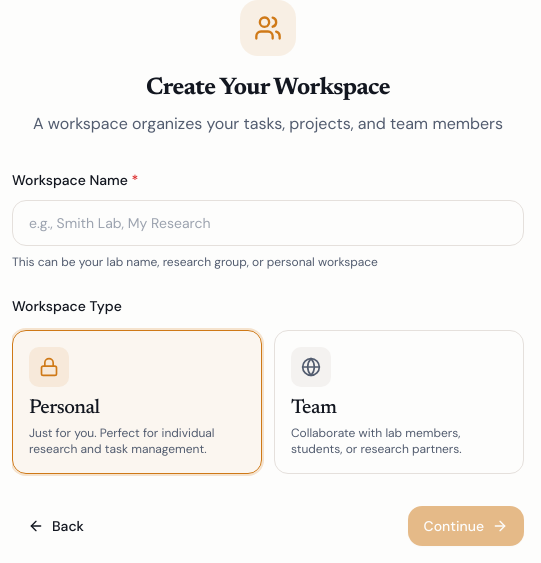
Scenario: StepWorkspace › Continue button is enabled when name is entered
The image size is (541, 563).
Type "My Lab" into the field with placeholder "e.g., Smith Lab, My Research". click: (268, 223)
box: [12,200,524,246]
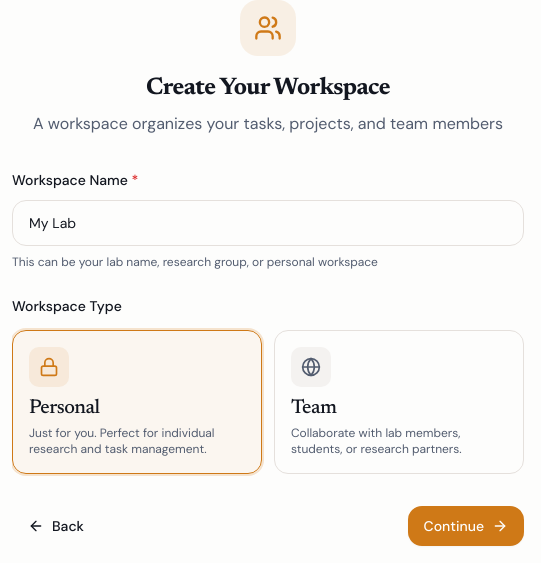
Expected: the button "Continue" is enabled, [408,506,524,546]
